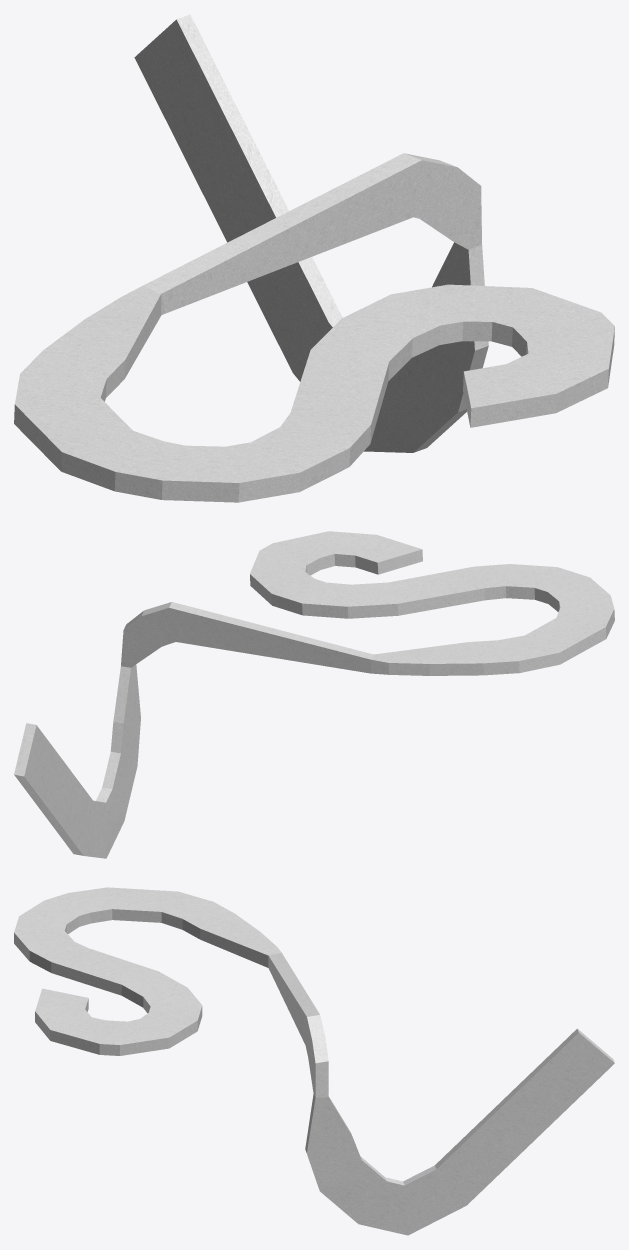
Rendered from L'invisible.gltf.
3 views of the same model, one above another, from view 1: azimuth 30°, elevation 25°; view 2: azimuth 150°, elevation 25°; view 3: azimuth 270°, elevation 25° (orthographic). The views are drawn at different scales.
Visible parts, largest first — view 1: L'invisible; view 2: L'invisible; view 3: L'invisible.
Part boxes in pixels (<box>): L'invisible: <box>14,14,614,502</box>; L'invisible: <box>14,531,614,858</box>; L'invisible: <box>14,887,614,1235</box>.
Bounding box in the file's own units: 38.58 × 22.06 × 57.54.
Materials: 1 (1 with a texture image).
